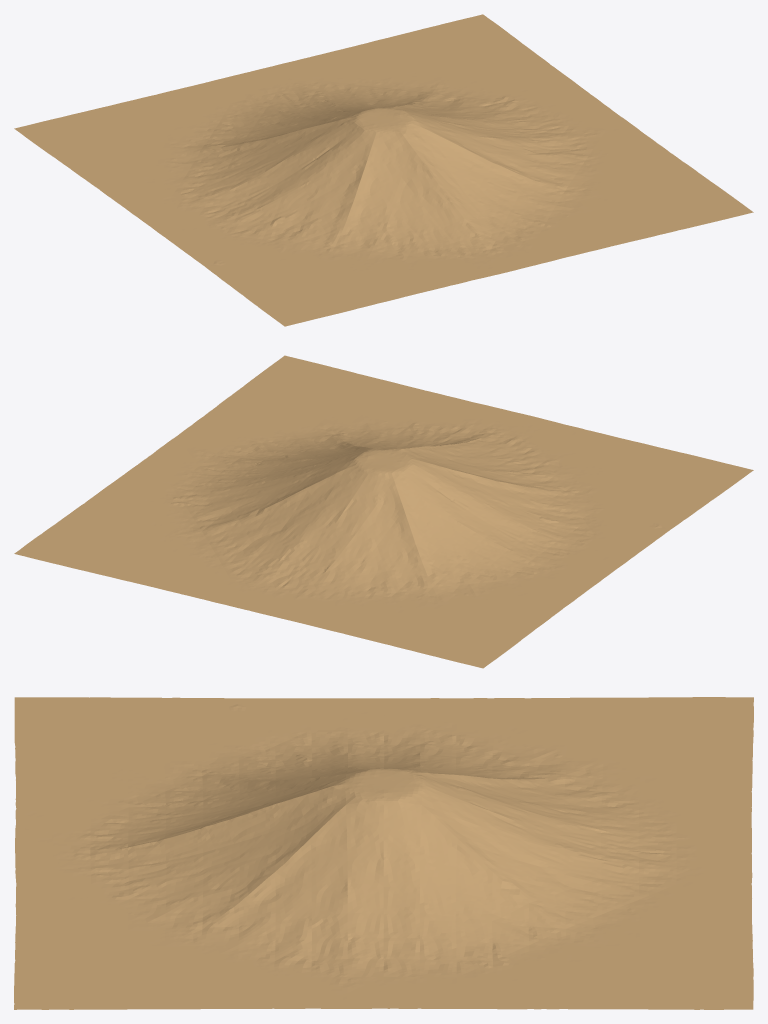
File: level_3.glb
3 renders of one model, top to bottom at view 1: azimuth 30°, elevation 25°; view 2: azimuth 150°, elevation 25°; view 3: azimuth 270°, elevation 25°, orthographic. The views are drawn at different scales.
Visible parts, largest first — view 1: world; view 2: world; view 3: world.
Boxes of the visible parts, x1=… form: world: x1=14, y1=14, x2=753, y2=326; world: x1=14, y1=355, x2=753, y2=668; world: x1=14, y1=697, x2=753, y2=1009.
Bounding box in the file's own units: 0.6424 × 0.0681 × 0.6424.
